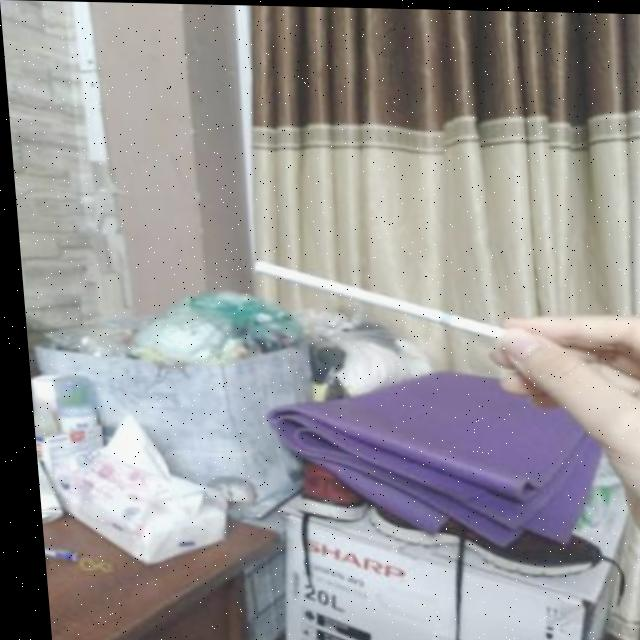cigarette: (246, 256, 497, 341)
